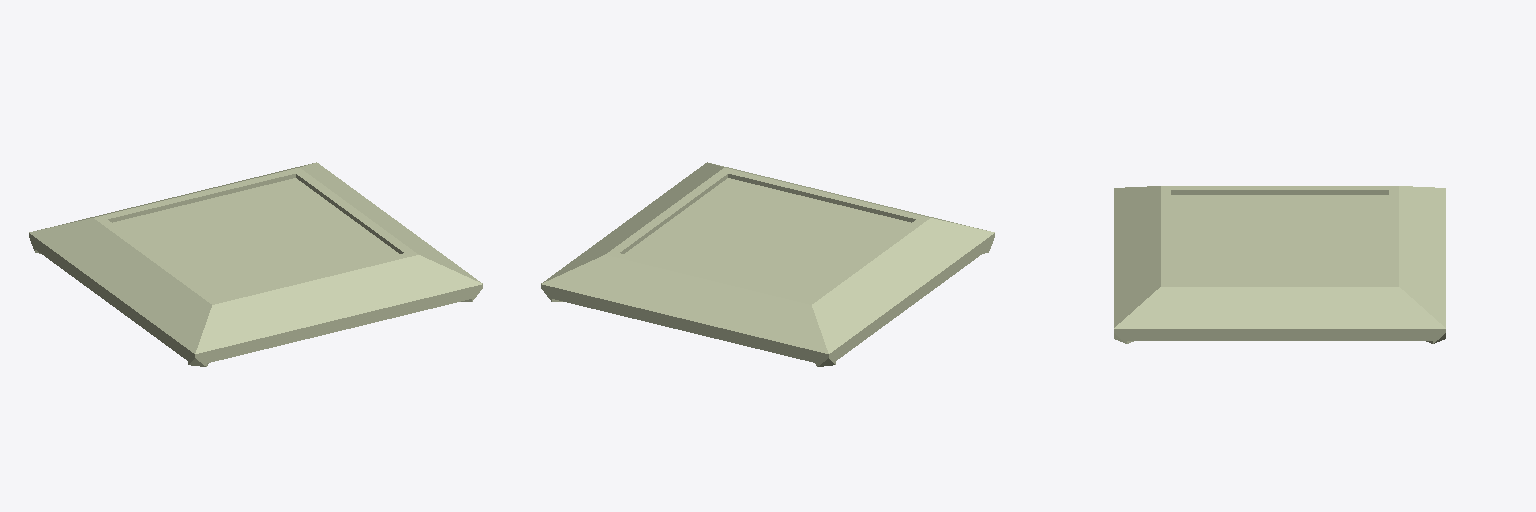
The model's file is CPUCore.obj.
The picture shows the model from 3 angles: view 1: azimuth 30°, elevation 25°; view 2: azimuth 150°, elevation 25°; view 3: azimuth 270°, elevation 25°; orthographic projection.
Parts seen in each view (by area): view 1: Cube1; view 2: Cube1; view 3: Cube1.
Boxes of the visible parts, box(x1,y1,x2,y2) form: Cube1: box(29, 162, 482, 366); Cube1: box(541, 162, 994, 366); Cube1: box(1114, 186, 1445, 343).
Bounding box in the file's own units: 2.07 × 0.2702 × 2.07.